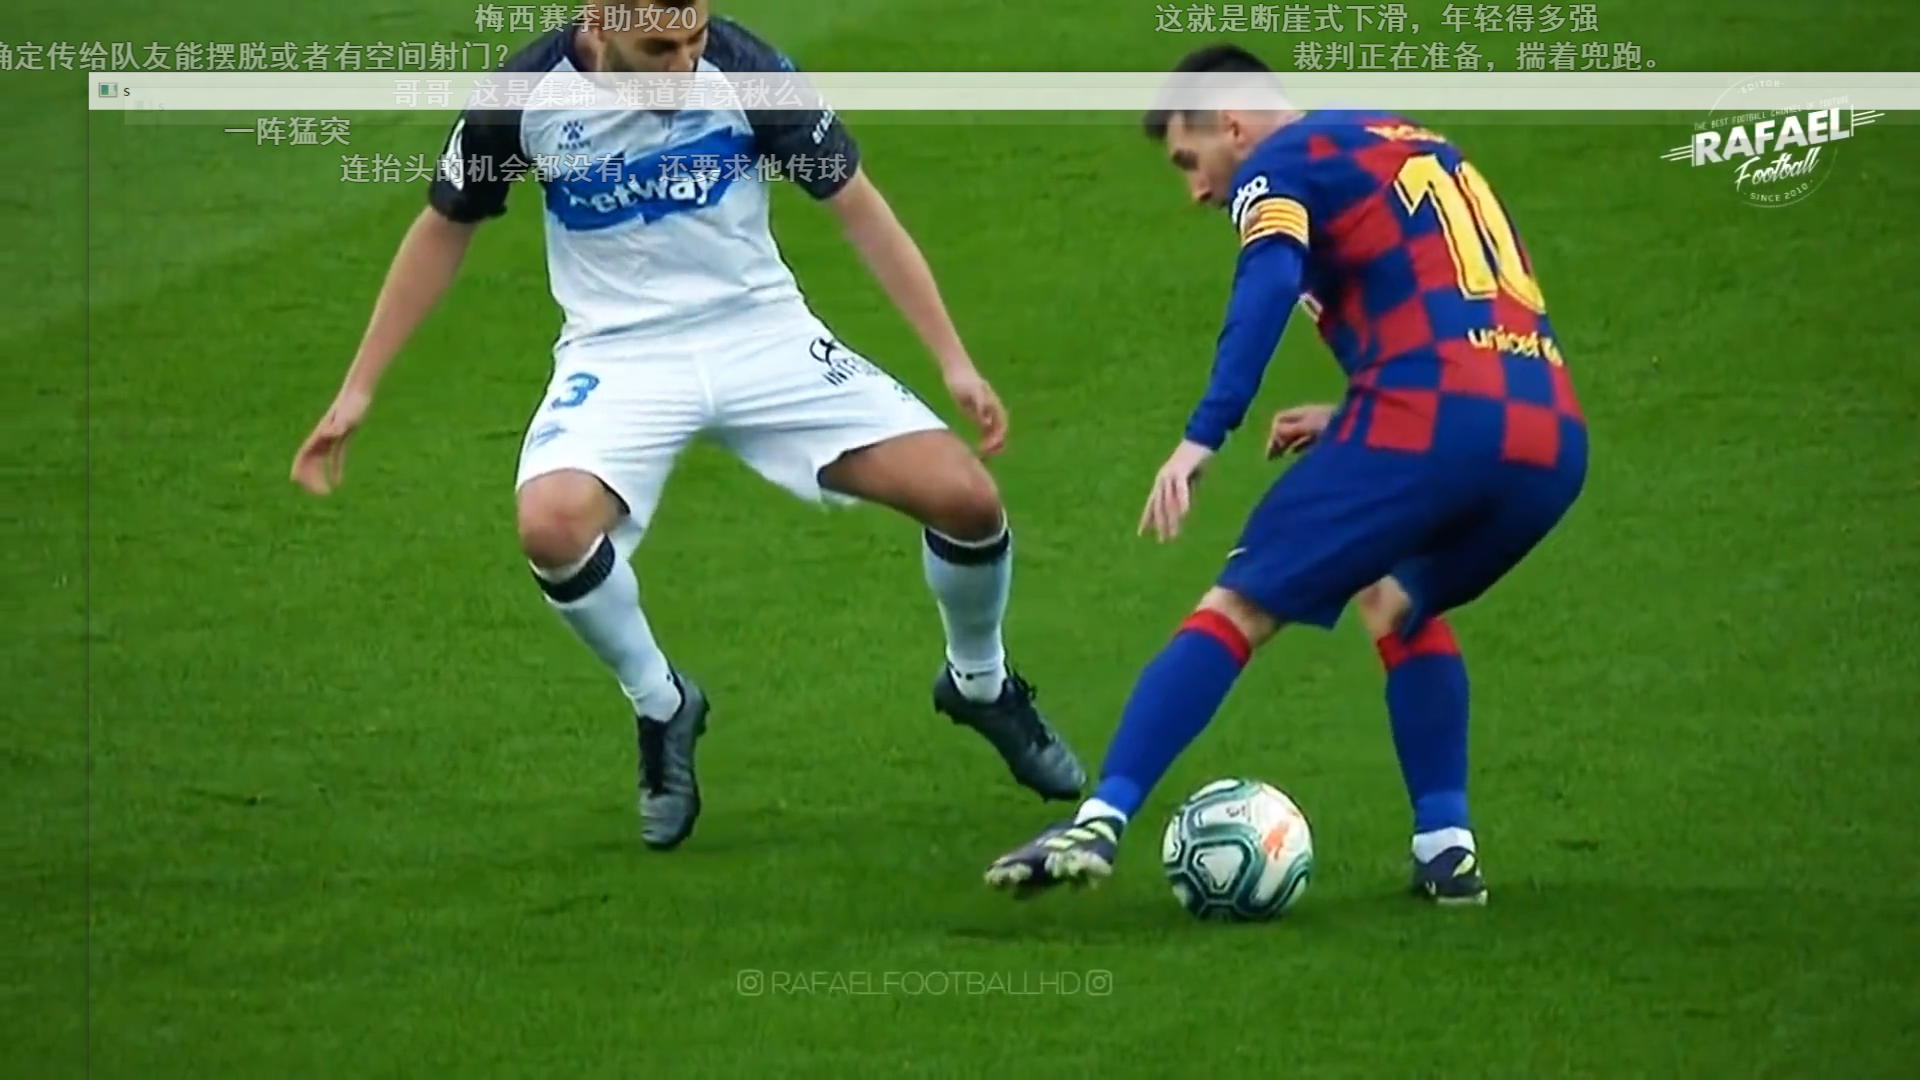ft: (1153, 771, 1321, 939)
